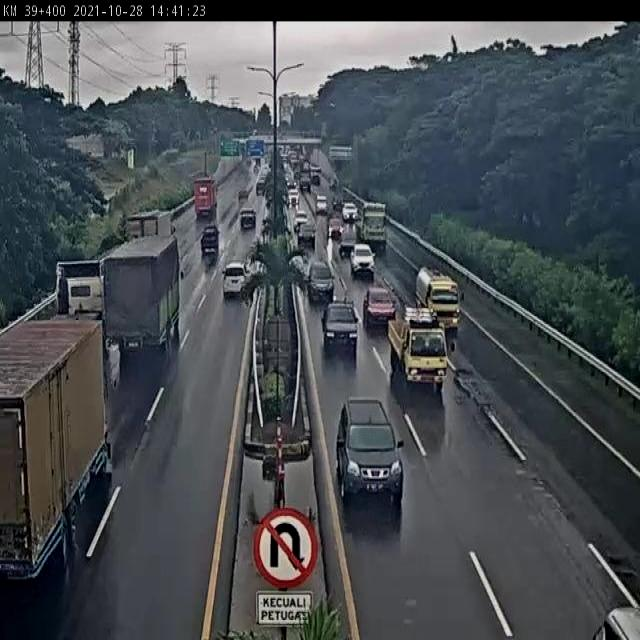Car: (335, 398, 411, 504), (588, 604, 640, 639), (362, 286, 396, 326), (308, 260, 336, 303), (222, 263, 250, 301), (349, 243, 375, 276), (298, 222, 318, 247), (327, 215, 345, 238), (239, 207, 255, 230), (341, 202, 357, 224), (292, 208, 307, 231), (315, 196, 328, 217)
Truck: (0, 319, 118, 590), (98, 236, 184, 362), (385, 303, 454, 393), (40, 253, 107, 324), (414, 266, 464, 334), (320, 296, 360, 349), (127, 205, 177, 244), (358, 199, 389, 252), (193, 172, 221, 220), (201, 223, 219, 255)
